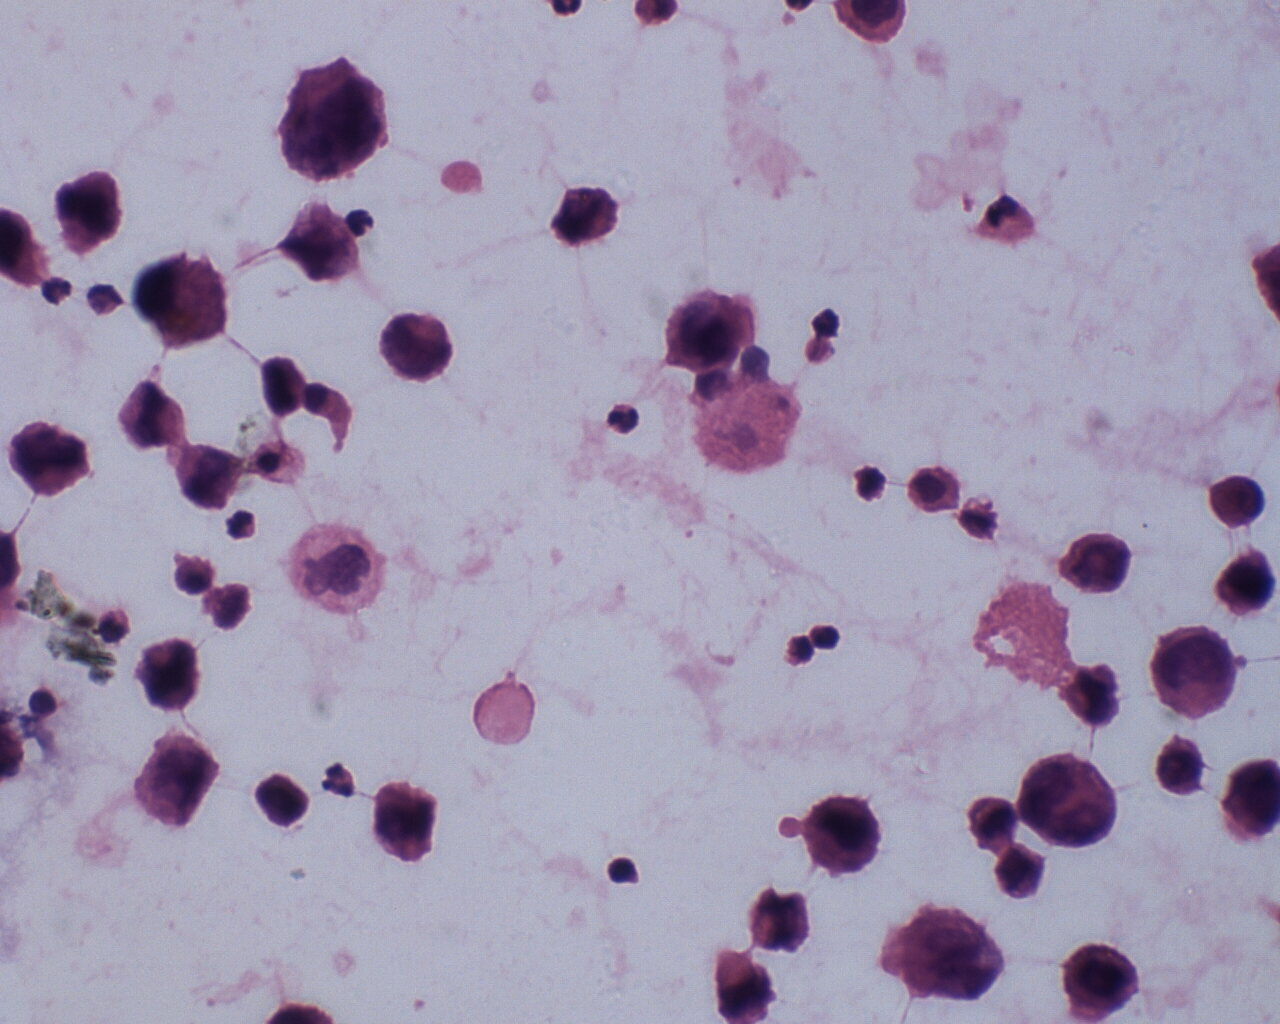ab: (267, 57, 394, 186), (1020, 748, 1120, 854), (131, 729, 228, 836), (130, 250, 234, 347), (1148, 620, 1238, 725), (662, 288, 764, 376), (366, 776, 450, 871), (805, 789, 886, 875), (53, 167, 130, 256), (9, 417, 91, 499), (1061, 939, 1141, 1022), (706, 945, 785, 1024), (745, 882, 821, 960), (134, 634, 207, 714), (381, 309, 453, 389), (545, 181, 626, 251), (1060, 526, 1134, 600), (174, 442, 246, 512), (1149, 727, 1211, 801), (1216, 549, 1277, 616), (1207, 467, 1269, 532), (994, 839, 1049, 903)
lymph: (600, 851, 637, 890)
meso: (908, 463, 961, 517)
neutro: (320, 759, 359, 804), (604, 396, 644, 438)
